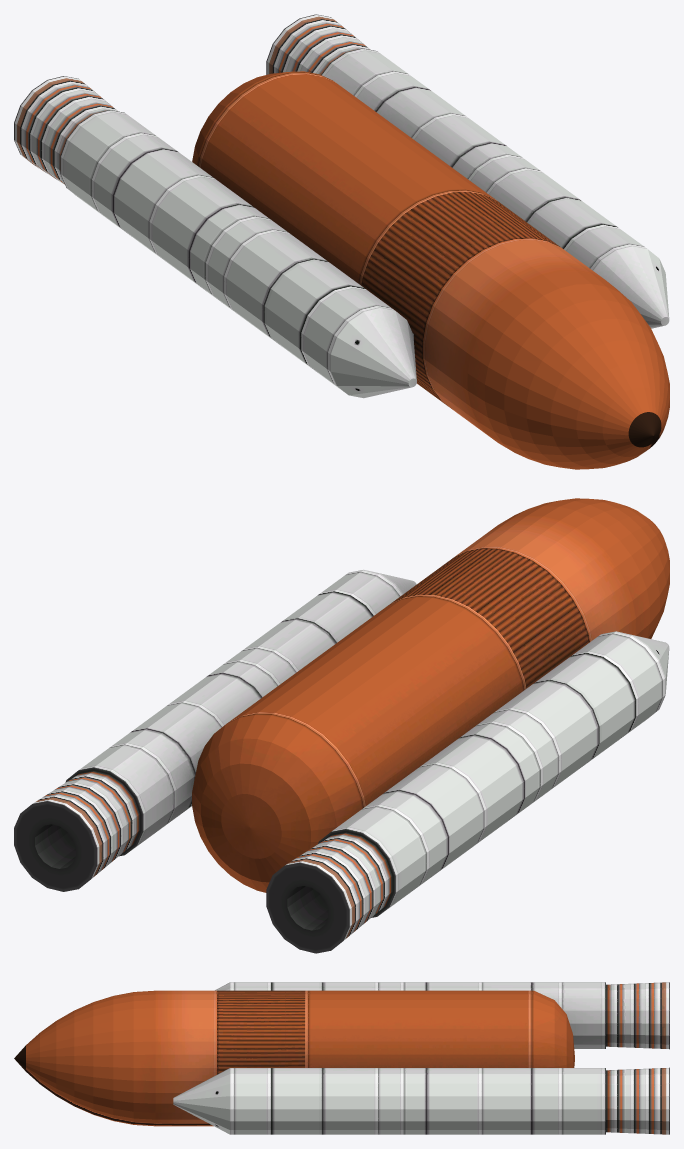
Rendered from Ship.obj.
3 views of the same model, one above another, from view 1: azimuth 30°, elevation 25°; view 2: azimuth 150°, elevation 25°; view 3: azimuth 270°, elevation 25° (orthographic). The views are drawn at different scales.
Visible parts, largest first — view 1: Object.1; view 2: Object.1; view 3: Object.1.
Part boxes in pixels (left/top/right/bottom): Object.1: left=14, top=14, right=669, bottom=469; Object.1: left=14, top=498, right=669, bottom=953; Object.1: left=14, top=982, right=669, bottom=1134.
Size of the model in its own units: 0.21 by 0.113 by 0.512.
1 material, 1 textured.
